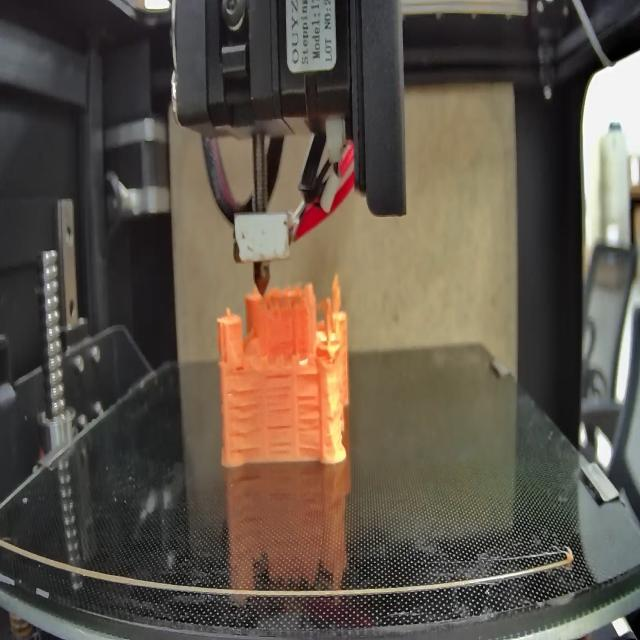cracks: (224, 388, 262, 452), (296, 395, 322, 453), (264, 376, 294, 414), (266, 422, 294, 460), (231, 352, 247, 379), (296, 369, 323, 381)
